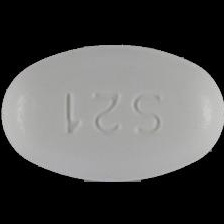33261-138: (0, 0, 224, 224)
